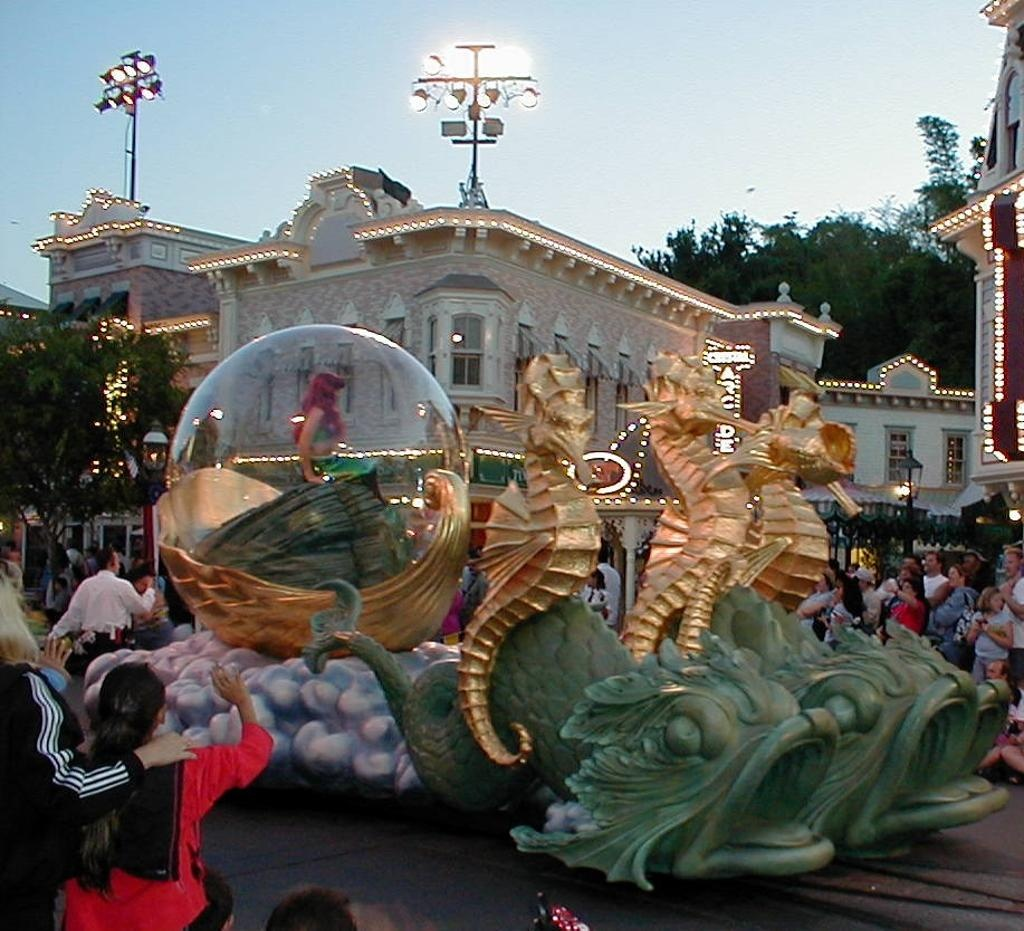human_face: (108, 550, 122, 576), (1004, 554, 1020, 576), (984, 662, 1000, 684), (828, 580, 844, 601), (989, 592, 1005, 612), (960, 554, 974, 574), (946, 568, 960, 588), (922, 554, 936, 574), (812, 574, 824, 594), (900, 582, 912, 600), (332, 386, 344, 402), (134, 580, 146, 594), (897, 568, 909, 582), (855, 578, 865, 590), (824, 564, 832, 576), (586, 574, 594, 586), (54, 581, 60, 591), (134, 540, 140, 546)
